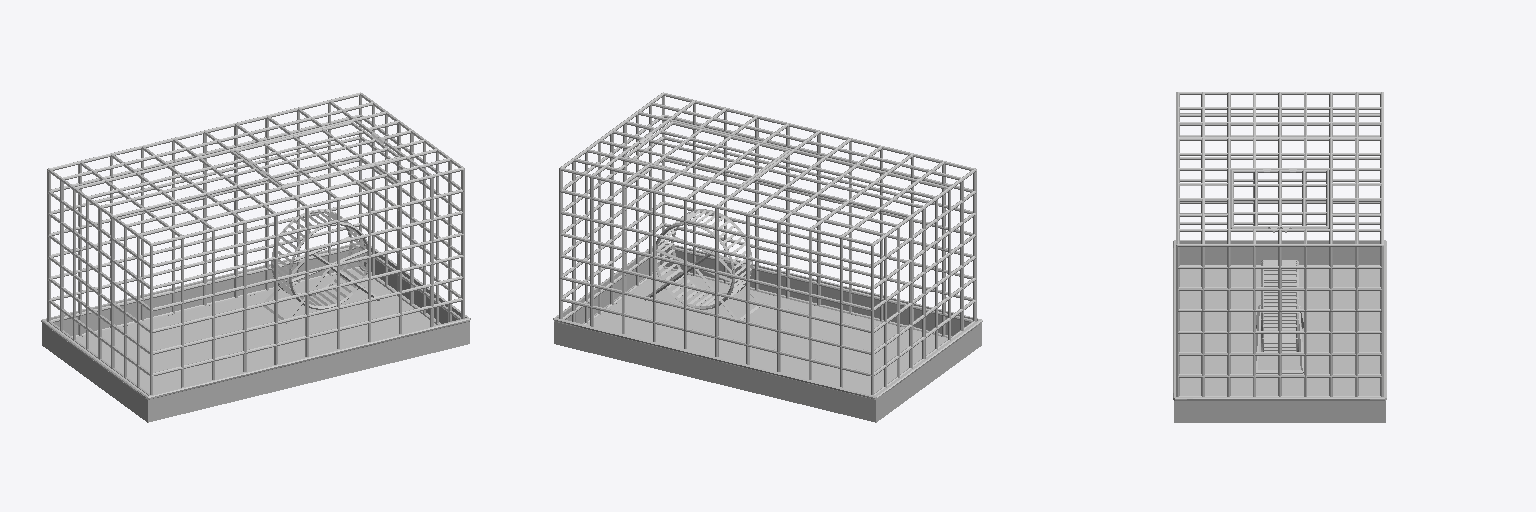
The model's file is Hamster_Cage__Hamster_Rolling_Toy.obj.
3 renders of one model, left to right at view 1: azimuth 30°, elevation 25°; view 2: azimuth 150°, elevation 25°; view 3: azimuth 270°, elevation 25°, orthographic.
Parts seen in each view (by area): view 1: Atom_Array Cube_1, Cube, Atom_Array_1 Cylinder, cage_cover, Atom_Array_2 Cube_2; view 2: Atom_Array Cube_1, Cube, Atom_Array_1 Cylinder, cage_cover, Atom_Array_2 Cube_2; view 3: Cube, Atom_Array Cube_1, Atom_Array_1 Cylinder, cage_cover, Atom_Array_2 Cube_2.
Boxes of the visible parts, x1,y1,x2,y2 form: Atom_Array Cube_1: [47, 92, 464, 395]; Cube: [41, 243, 470, 422]; Atom_Array_1 Cylinder: [271, 209, 367, 309]; cage_cover: [234, 121, 399, 185]; Atom_Array_2 Cube_2: [263, 251, 380, 323]; Atom_Array Cube_1: [559, 92, 976, 395]; Cube: [553, 243, 982, 422]; Atom_Array_1 Cylinder: [656, 209, 752, 309]; cage_cover: [624, 121, 789, 185]; Atom_Array_2 Cube_2: [645, 251, 761, 322]; Cube: [1173, 240, 1386, 422]; Atom_Array Cube_1: [1176, 92, 1383, 396]; Atom_Array_1 Cylinder: [1261, 260, 1298, 351]; cage_cover: [1231, 170, 1328, 232]; Atom_Array_2 Cube_2: [1256, 305, 1303, 373].
Bounding box in the file's own units: 4139 × 2163 × 2365.